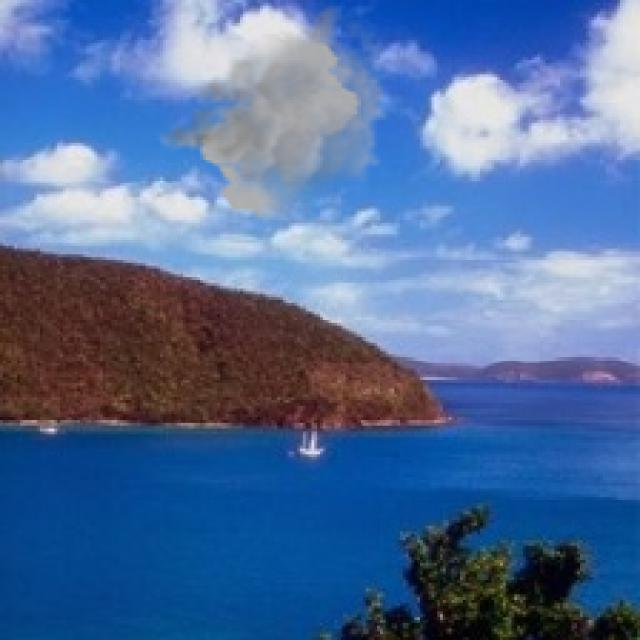smoke: (154, 3, 392, 223)
